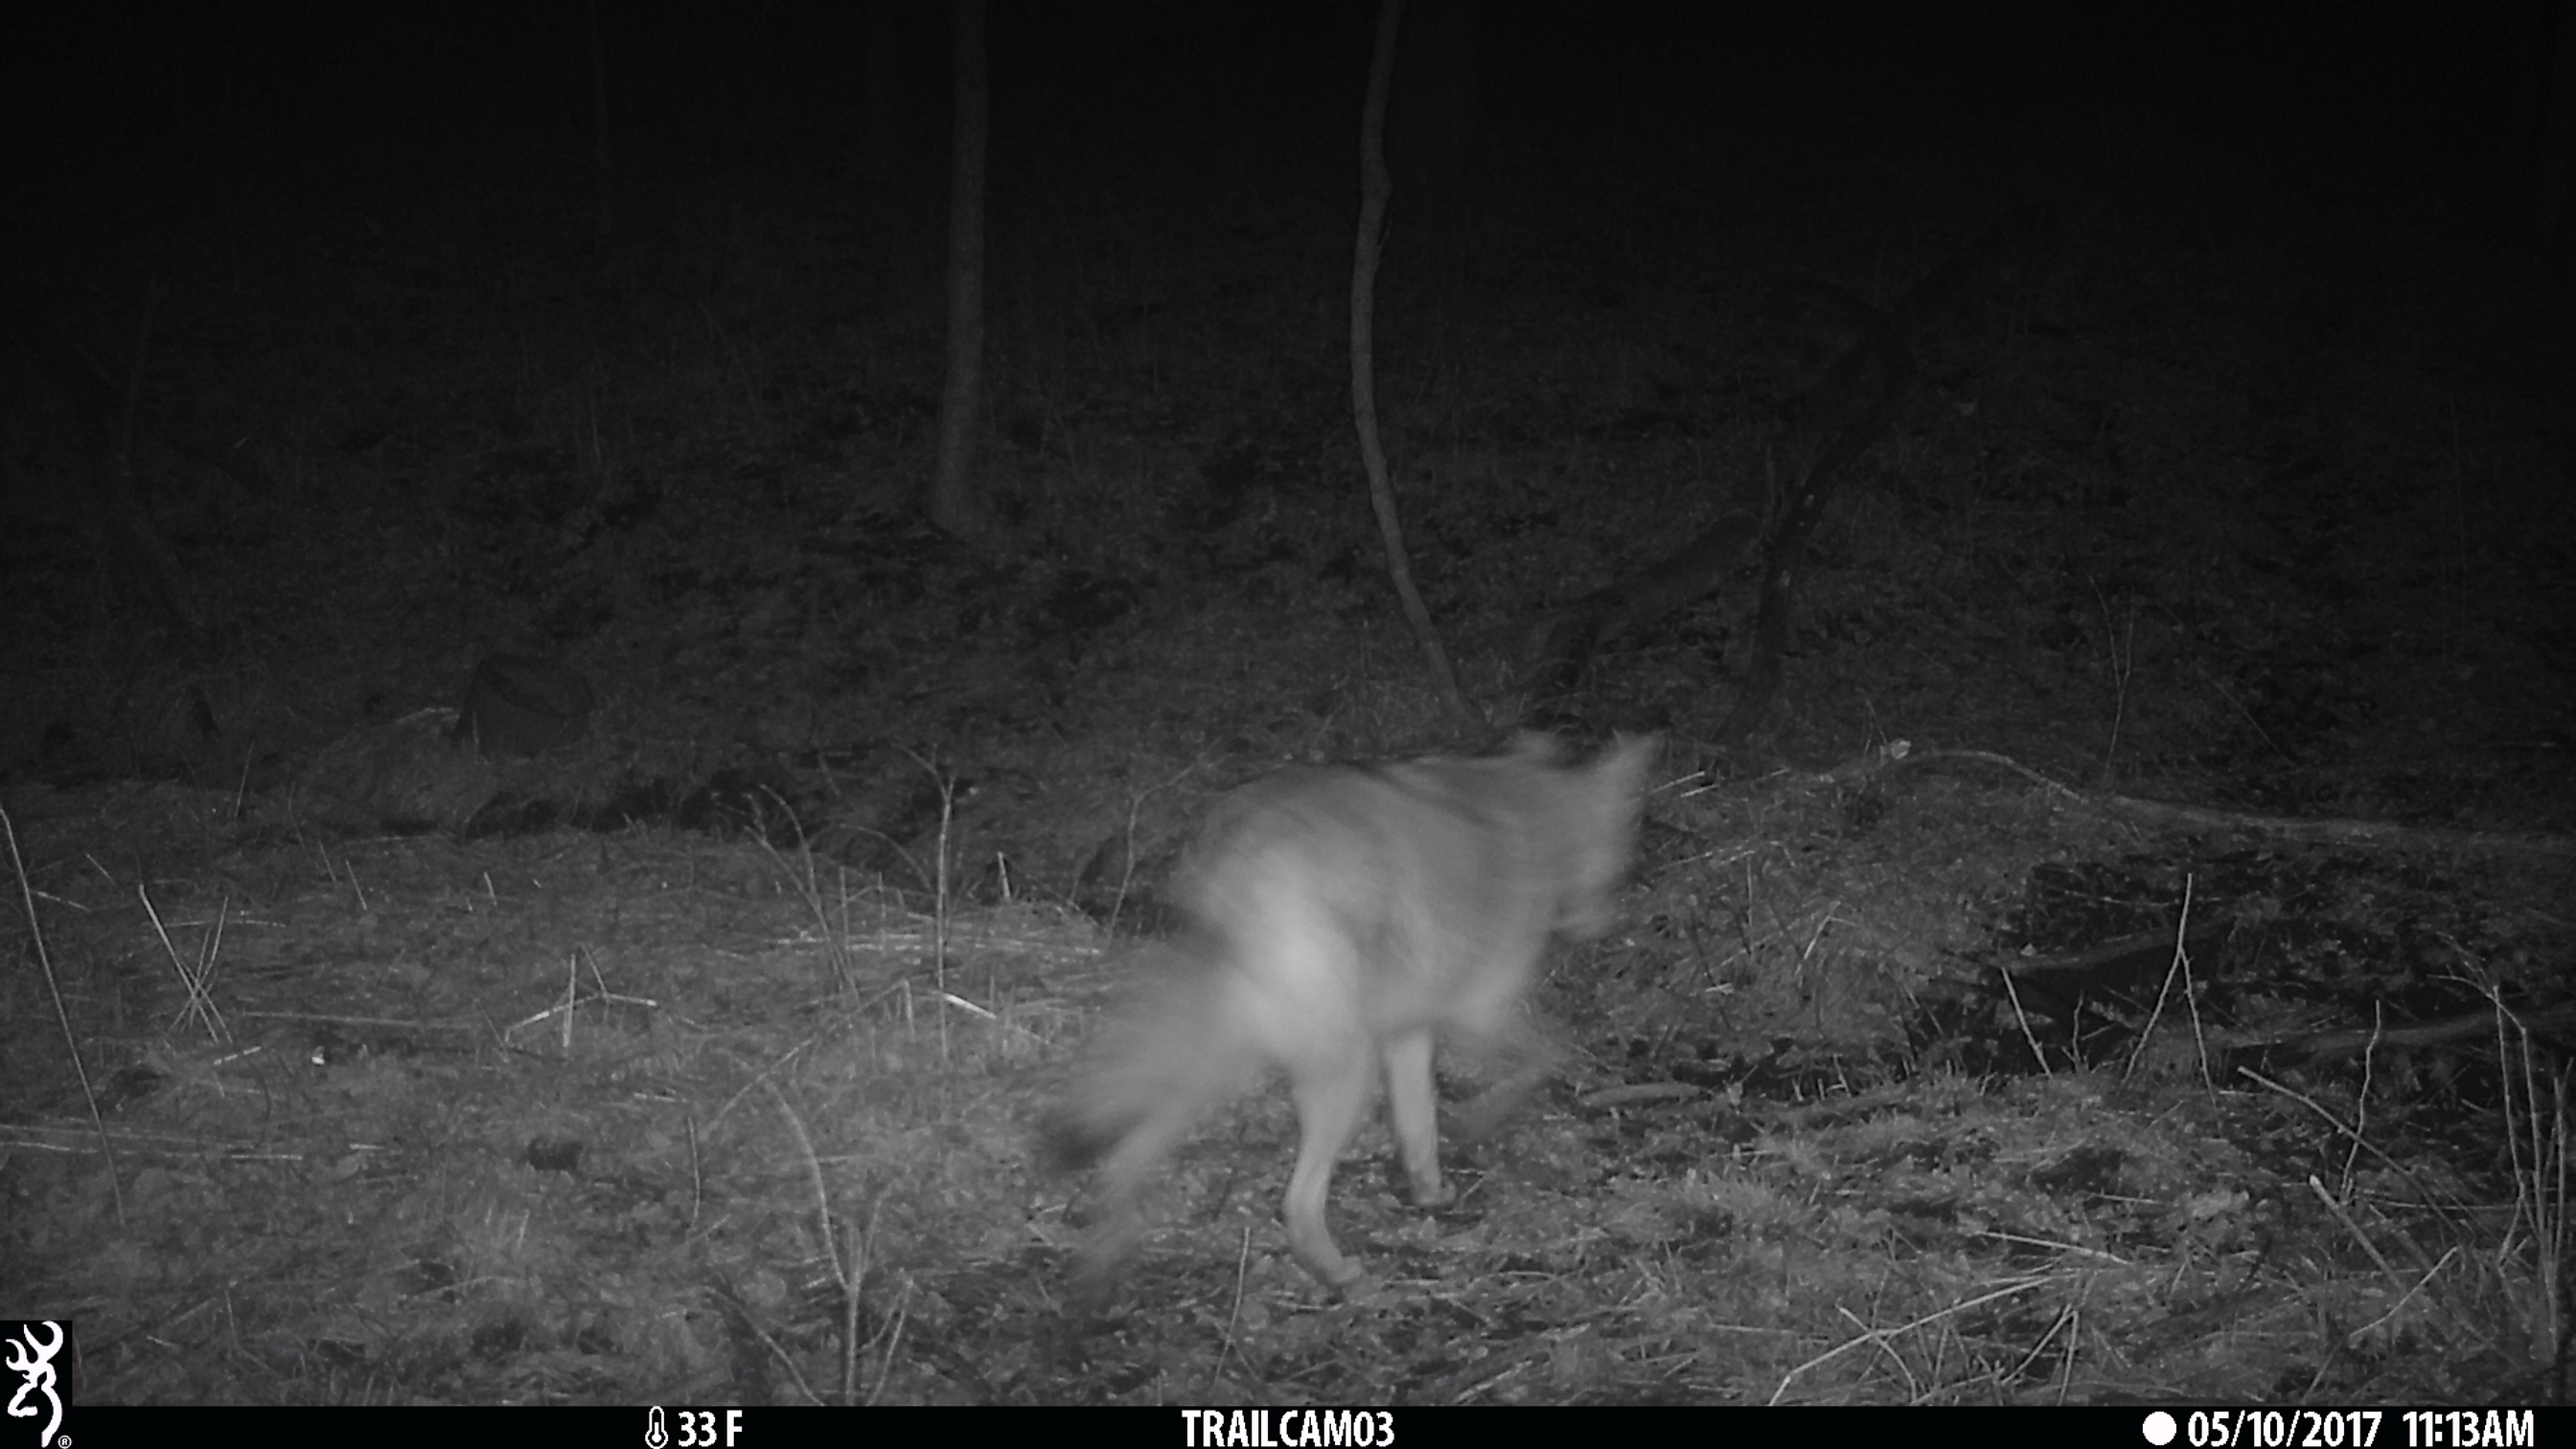Coyote: (1039, 717, 1675, 1281)
